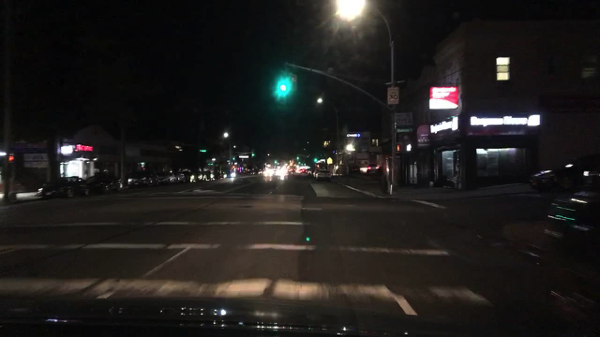car: (525, 149, 598, 194), (37, 176, 81, 203), (87, 176, 112, 196), (127, 169, 152, 187), (103, 173, 125, 192), (76, 176, 92, 198), (147, 170, 162, 184), (160, 170, 176, 183), (316, 169, 331, 182), (184, 171, 197, 183), (174, 170, 186, 183), (366, 163, 381, 173), (194, 170, 204, 182), (313, 169, 326, 178), (215, 170, 227, 179), (147, 173, 153, 187), (207, 170, 215, 180), (244, 169, 255, 176), (265, 169, 274, 176), (227, 171, 237, 177), (279, 169, 288, 175), (202, 172, 208, 180), (300, 168, 308, 174), (309, 169, 315, 176), (255, 169, 262, 175), (307, 169, 311, 176), (290, 168, 297, 172)
traffic light: (279, 77, 290, 97), (7, 152, 16, 163), (396, 143, 403, 152), (405, 143, 412, 152), (296, 156, 299, 161), (274, 160, 277, 164), (252, 154, 255, 157), (232, 158, 235, 161), (314, 158, 316, 162)
traffic sign: (387, 87, 399, 105), (238, 156, 249, 158)
